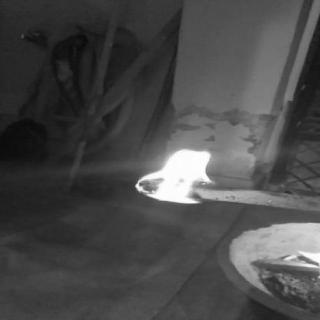Fire: (127, 140, 221, 210)
